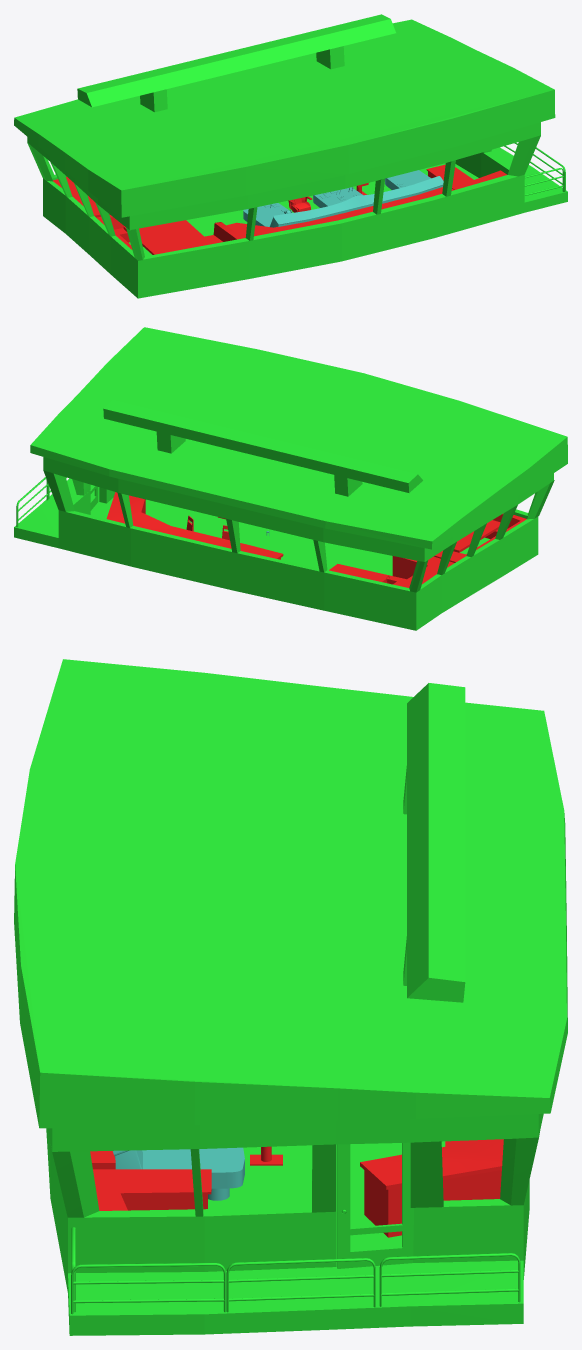
The model's file is stuurhut_pivot000_controls.FBX.
The picture shows the model from 3 angles, top to bottom: view 1: azimuth 30°, elevation 25°; view 2: azimuth 150°, elevation 25°; view 3: azimuth 270°, elevation 25°; orthographic projection. The views are drawn at different scales.
Parts seen in each view (by area): view 1: buitenkant, maincontrol, bank, venster_voor, venster_links, chairs; view 2: buitenkant, bureau, keuken, bank; view 3: buitenkant, bureau, venster_links, deur, maincontrol.
Boxes of the visible parts, box(x1,y1,x2,y2) form: buitenkant: box(14, 14, 567, 298); maincontrol: box(243, 170, 443, 227); bank: box(96, 215, 243, 254); venster_voor: box(226, 187, 454, 238); venster_links: box(426, 164, 506, 189); chairs: box(288, 183, 368, 212); buitenkant: box(14, 327, 567, 630); bureau: box(106, 492, 283, 559); keuken: box(329, 556, 454, 587); bank: box(453, 513, 526, 555); buitenkant: box(14, 659, 567, 1335); bureau: box(360, 1139, 503, 1237); venster_links: box(93, 1169, 211, 1210); deur: box(337, 1142, 413, 1268); maincontrol: box(113, 1147, 244, 1200).
Size of the model in its own units: 42.41 by 12.47 by 22.85.
